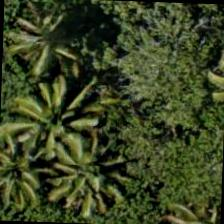Kelapa_Sawit: (35, 122, 128, 216), (0, 75, 84, 169), (1, 0, 89, 83), (0, 130, 54, 222)
